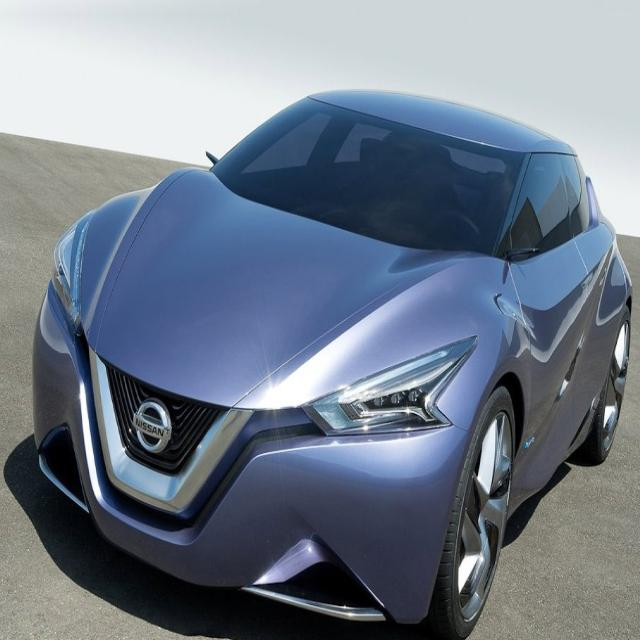front_bumper: (28, 281, 474, 631)
front_glass: (201, 95, 532, 267)
front_left_side_light: (300, 329, 484, 440)
front_right_side_light: (46, 198, 96, 329)
wheel: (410, 385, 520, 640), (570, 309, 632, 469)
